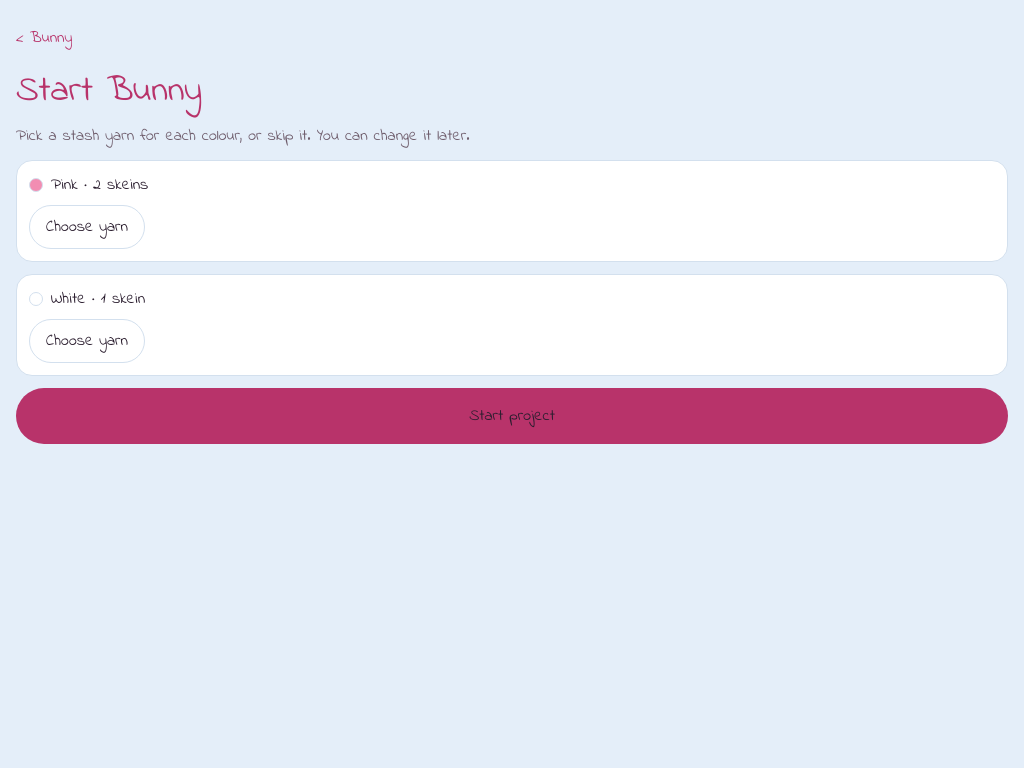
Test: the picker starts on the line colour, search looks through every yarn
The image size is (1024, 768).
Expected: the text "Pink · 2 skeins" is shown, [51, 173, 148, 197]
Step 1. Click the button with aria-label "Choose yarn for Pink" → [87, 227], box [29, 205, 145, 249]
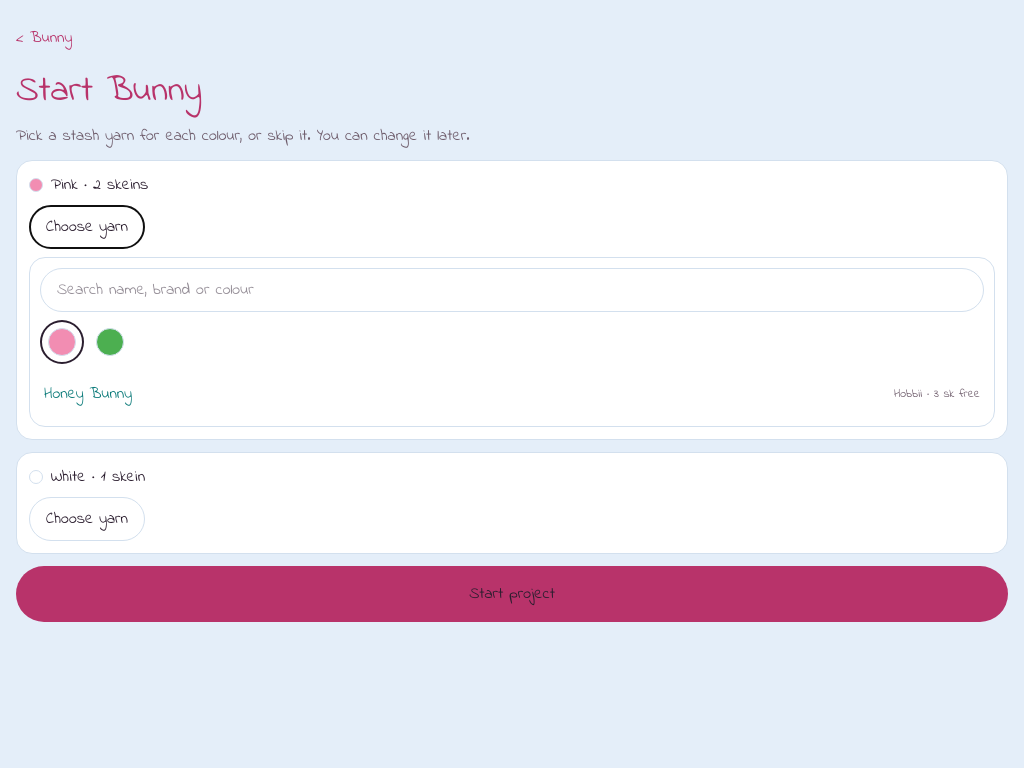
Expected: the button "Paris" is not shown
Now the button "Honey Bunny Hobbii · 3 sk free" is shown, box [40, 372, 984, 416]
Step 2. Type "paris" into the search field named "Search stash" → [512, 290], box [40, 268, 984, 312]
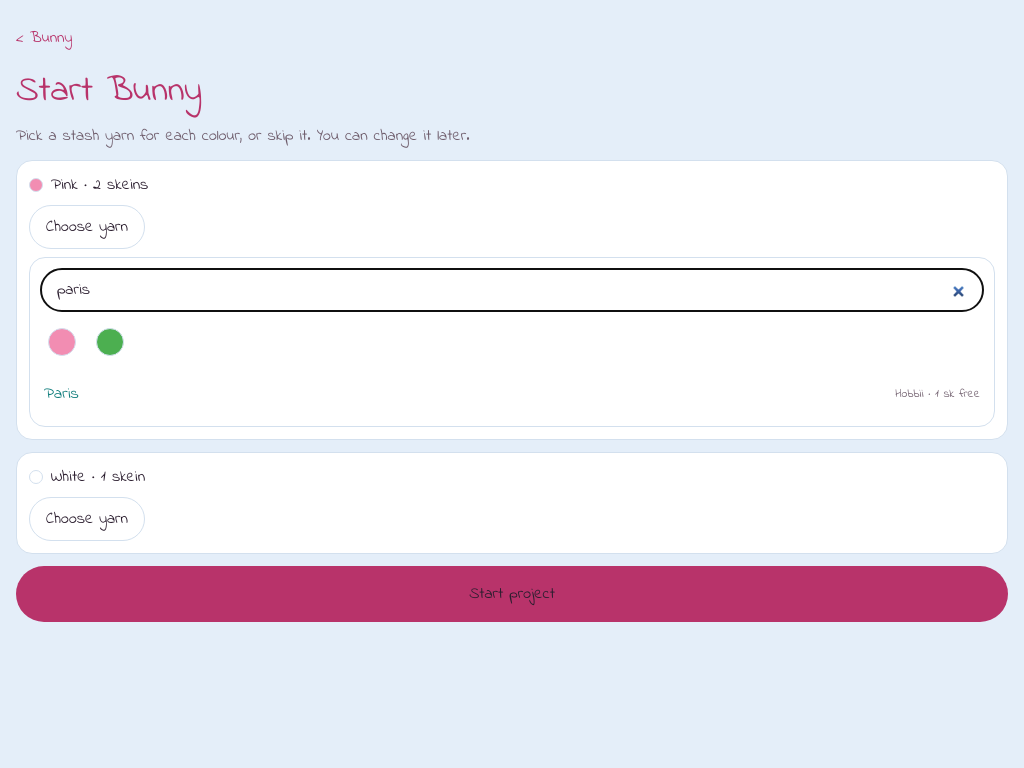
Step 3. Click the button "Paris Hobbii · 1 sk free" → [61, 394], box [40, 372, 984, 416]
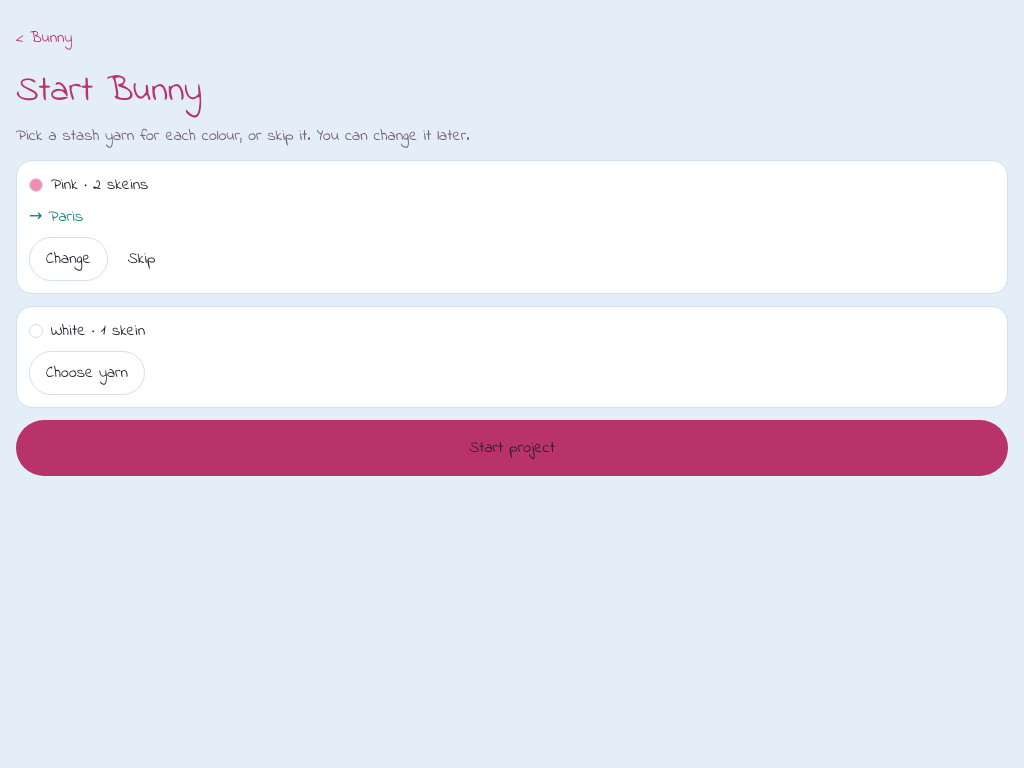
Now the button with aria-label "Change yarn for Pink" is shown, box [29, 237, 108, 281]
Now the text "→ Paris" is shown, box [29, 205, 83, 229]
